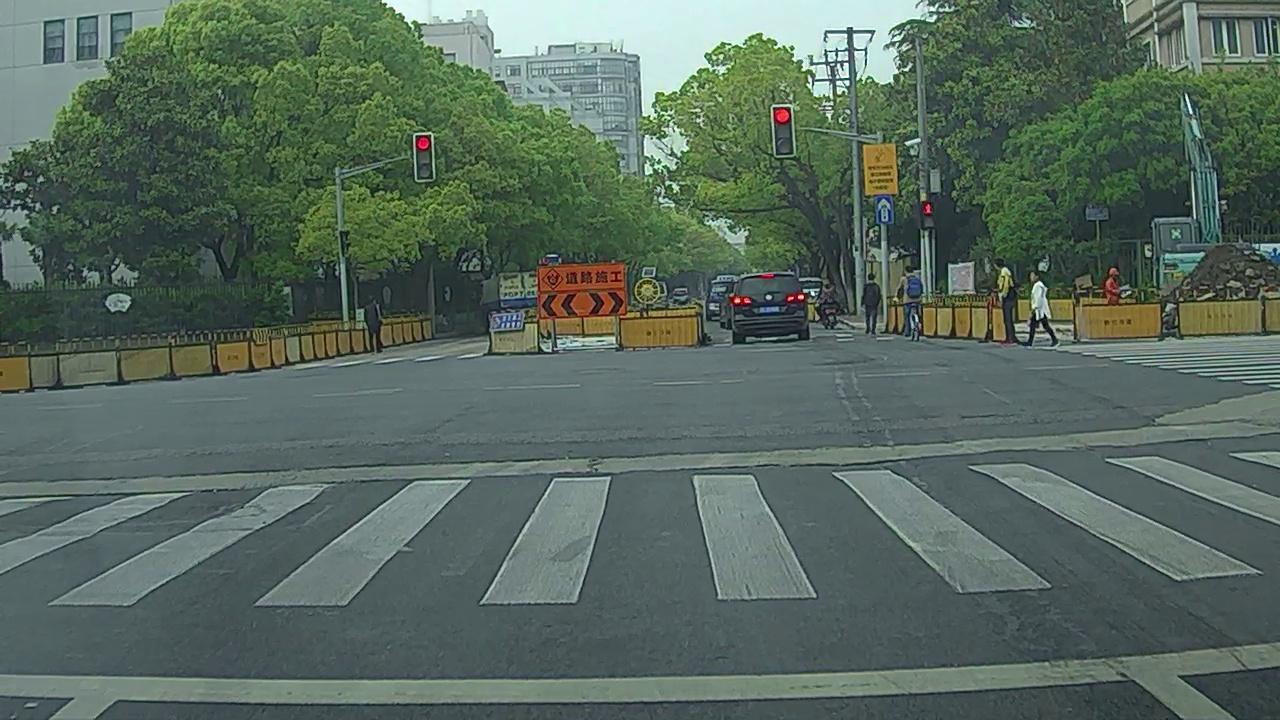traffic_light: (774, 107, 794, 157), (415, 134, 433, 181)
